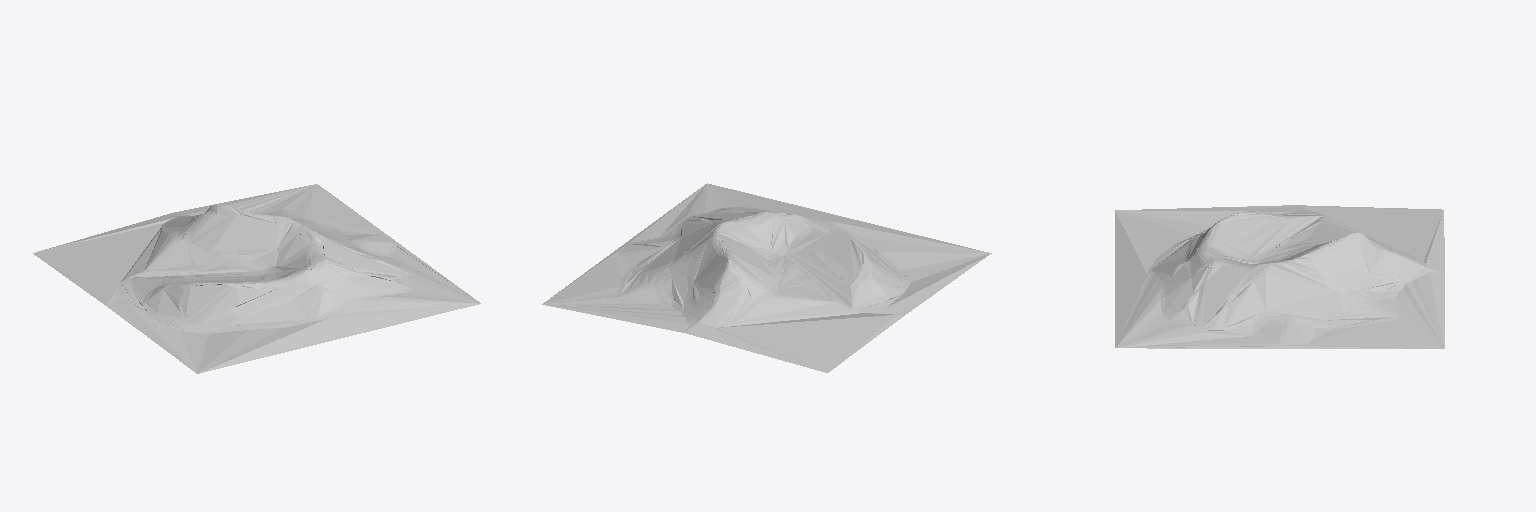
File: terrain.obj
3 views of the same model, side by side, from view 1: azimuth 30°, elevation 25°; view 2: azimuth 150°, elevation 25°; view 3: azimuth 270°, elevation 25° (orthographic).
Visible parts, largest first — view 1: Plane; view 2: Plane; view 3: Plane.
Boxes of the visible parts, x1,y1,x2,y2 form: Plane: [33, 184, 480, 373]; Plane: [542, 183, 991, 372]; Plane: [1115, 205, 1444, 348].
Size of the model in its own units: 2.02 by 0.3224 by 2.